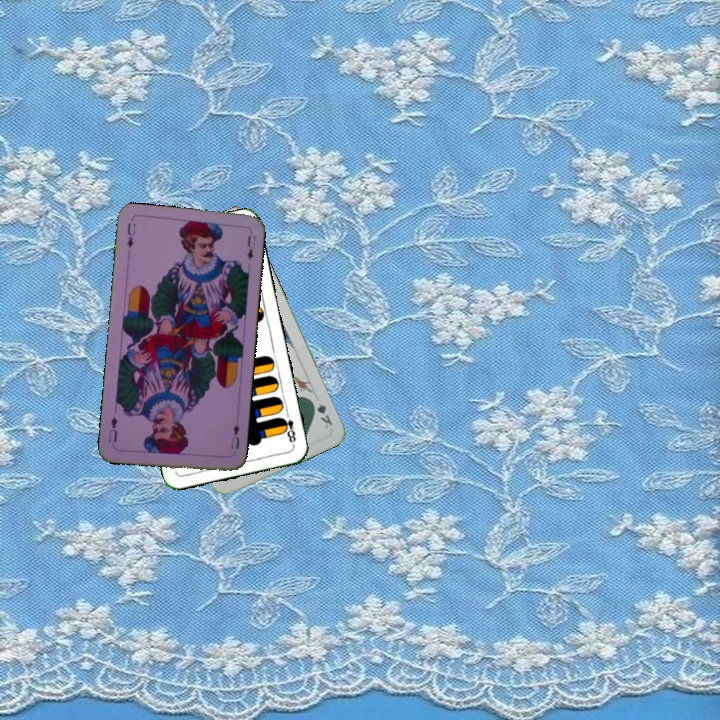E8: (277, 408, 298, 448)
EU: (227, 420, 242, 452), (123, 219, 138, 251)
GK: (307, 395, 335, 431)
